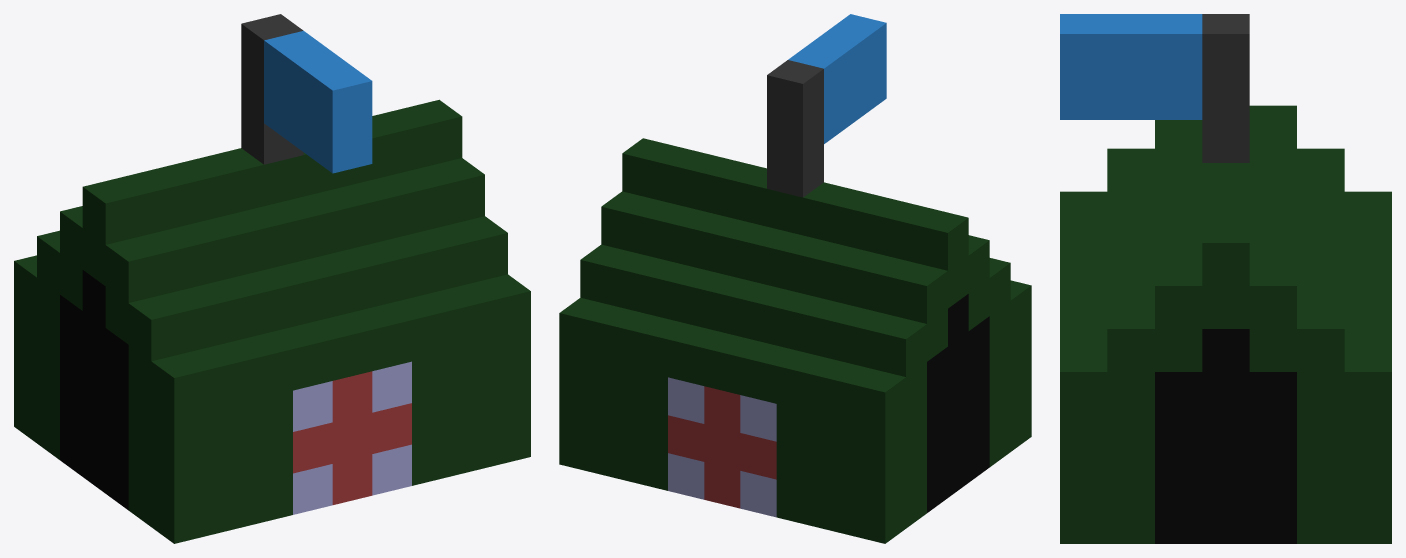
Rendered from CheckPoint.glb.
3 renders of one model, left to right at view 1: azimuth 30°, elevation 25°; view 2: azimuth 150°, elevation 25°; view 3: azimuth 270°, elevation 25°, orthographic. The views are drawn at different scales.
Parts seen in each view (by area): view 1: CheckPoint; view 2: CheckPoint; view 3: CheckPoint.
Part boxes in pixels (x1,y1,x2,y2): CheckPoint: (14,14,530,543); CheckPoint: (559,14,1031,543); CheckPoint: (1060,14,1391,543).
Bounding box in the file's own units: 9 × 10 × 7.
